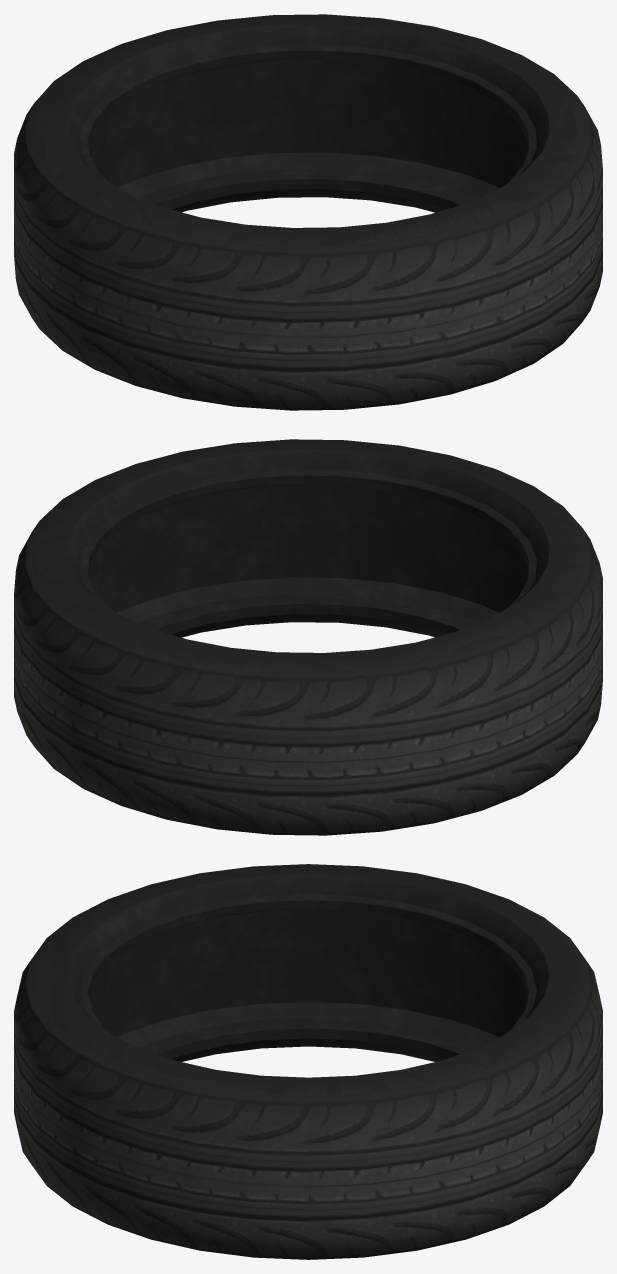
The model's file is Sport tire.LP_Baked 1k.fbx.
3 views of the same model, one above another, from view 1: azimuth 30°, elevation 25°; view 2: azimuth 150°, elevation 25°; view 3: azimuth 270°, elevation 25° (orthographic).
Visible parts, largest first — view 1: Sport tire.LP_Baked 1k; view 2: Sport tire.LP_Baked 1k; view 3: Sport tire.LP_Baked 1k.
Boxes of the visible parts, <box> form: Sport tire.LP_Baked 1k: <box>14,14,602,410</box>; Sport tire.LP_Baked 1k: <box>14,439,602,835</box>; Sport tire.LP_Baked 1k: <box>14,864,602,1259</box>.
Bounding box in the file's own units: 75.3 × 24.37 × 75.3.
